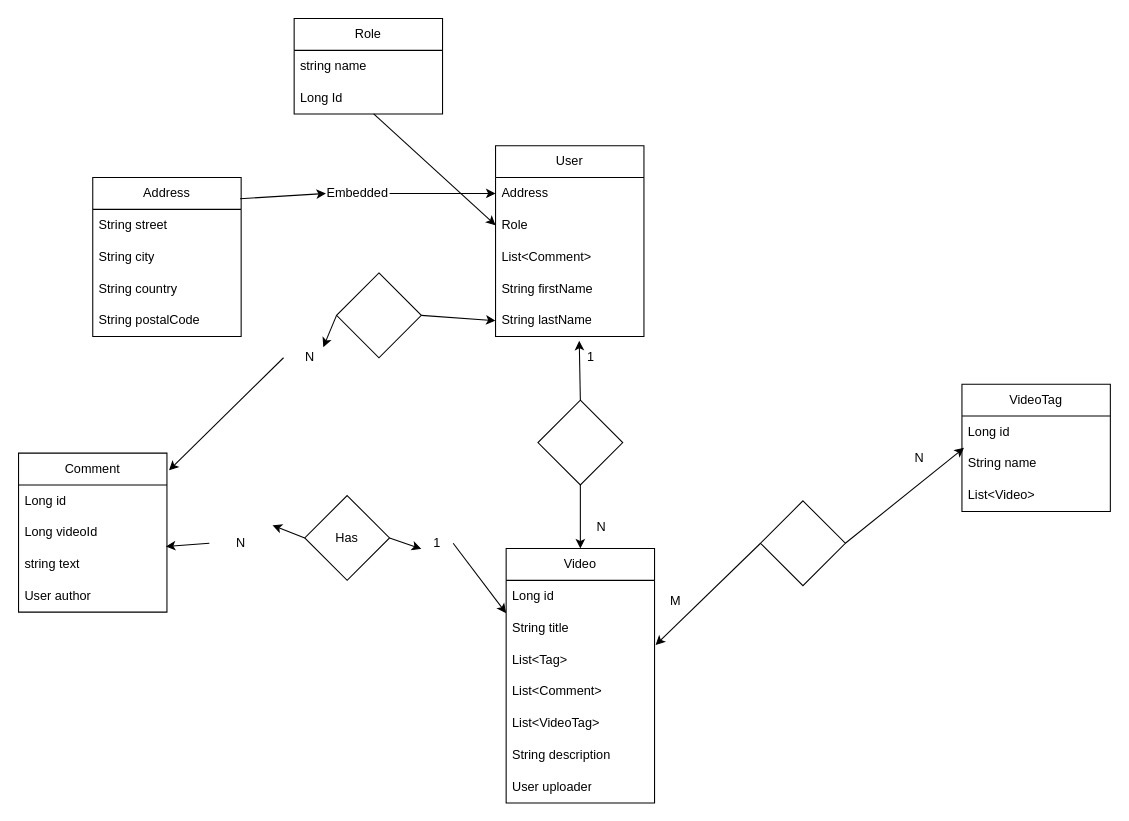
Some shapes in this 1129 by 821 pixel diagram are drawn without their labels. Each missing label, with the centre of its shape:
"Author" belongs at (x=378, y=315).
"Tagged" belongs at (x=802, y=543).
"Uploader" belongs at (x=580, y=442).
